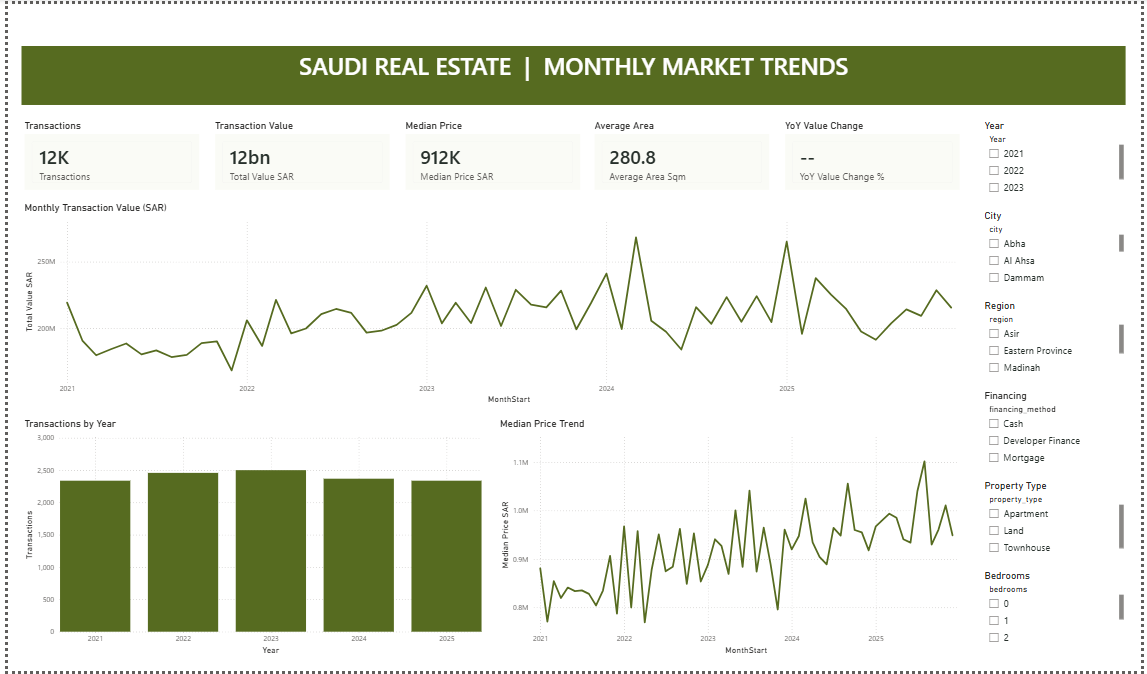

What the dashboard file says about the page in this screenshot:
{"tool":"powerbi","page":{"name":"05 | Monthly Trends","canvas":[1920,1080],"ordinal":4},"visuals":[{"type":"cardVisual","title":"Transactions","fields":{"Data":["Transactions.Transactions"]},"box":[24,144,306,125],"z":1000},{"type":"cardVisual","title":"Transaction Value","fields":{"Data":["Transactions.Total Value SAR"]},"box":[346,144,306,125],"z":1000},{"type":"cardVisual","title":"Median Price","fields":{"Data":["Transactions.Median Price SAR"]},"box":[668,144,306,125],"z":1000},{"type":"cardVisual","title":"Average Area","fields":{"Data":["Transactions.Average Area Sqm"]},"box":[990,144,306,125],"z":1000},{"type":"cardVisual","title":"YoY Value Change","fields":{"Data":["Transactions.YoY Value Change %"]},"box":[1312,144,306,125],"z":1000},{"type":"slicer","title":"Year","fields":{"Values":["Transactions.Year"]},"box":[1650,144,246,140],"z":1000},{"type":"lineChart","title":"Monthly Transaction Value (SAR)","fields":{"Category":["Transactions.MonthStart"],"Y":["Transactions.Total Value SAR"]},"box":[24,285,1594,347],"z":1000},{"type":"slicer","title":"City","fields":{"Values":["Transactions.city"]},"box":[1650,297,246,140],"z":1000},{"type":"slicer","title":"Region","fields":{"Values":["Transactions.region"]},"box":[1650,450,246,140],"z":1000},{"type":"slicer","title":"Financing","fields":{"Values":["Transactions.financing_method"]},"box":[1650,603,246,140],"z":1000},{"type":"clusteredColumnChart","title":"Transactions by Year","fields":{"Category":["Transactions.Year"],"Y":["Transactions.Transactions"]},"box":[24,650,785,405],"z":1000},{"type":"lineChart","title":"Median Price Trend","fields":{"Category":["Transactions.MonthStart"],"Y":["Transactions.Median Price SAR"]},"box":[828,650,790,405],"z":1000},{"type":"slicer","title":"Property Type","fields":{"Values":["Transactions.property_type"]},"box":[1650,756,246,140],"z":1000},{"type":"slicer","title":"Bedrooms","fields":{"Values":["Transactions.bedrooms"]},"box":[1650,909,246,140],"z":1000},{"type":"textbox","box":[24,20,1872,100],"z":2000}]}

Visuals, with their boxes on the page's 1920x1080 design canvas (x1, y1, x2, y2). These are canvas units, not pixel positions in the 1147x674 screenshot, which may show the page scaled, cropped or inside an application window:
"Transactions" cardVisual: 24, 144, 330, 269
"Transaction Value" cardVisual: 346, 144, 652, 269
"Median Price" cardVisual: 668, 144, 974, 269
"Average Area" cardVisual: 990, 144, 1296, 269
"YoY Value Change" cardVisual: 1312, 144, 1618, 269
"Year" slicer: 1650, 144, 1896, 284
"Monthly Transaction Value (SAR)" lineChart: 24, 285, 1618, 632
"City" slicer: 1650, 297, 1896, 437
"Region" slicer: 1650, 450, 1896, 590
"Financing" slicer: 1650, 603, 1896, 743
"Transactions by Year" clusteredColumnChart: 24, 650, 809, 1055
"Median Price Trend" lineChart: 828, 650, 1618, 1055
"Property Type" slicer: 1650, 756, 1896, 896
"Bedrooms" slicer: 1650, 909, 1896, 1049
textbox: 24, 20, 1896, 120
